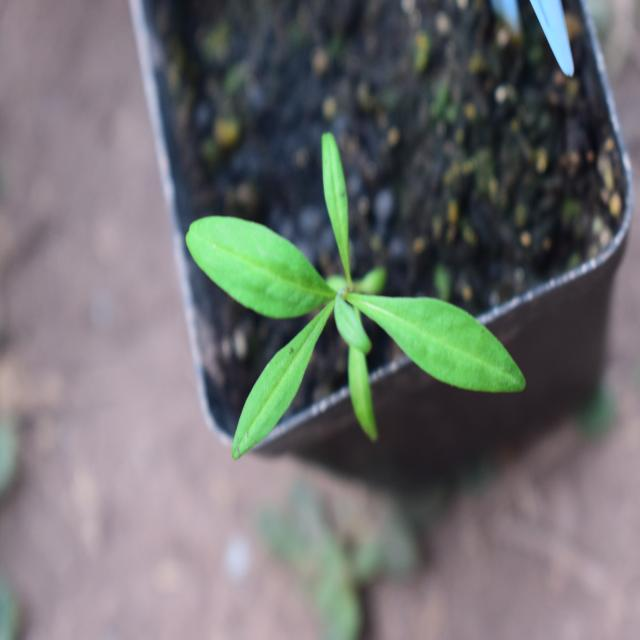white_smart_weed: (171, 152, 497, 503)
